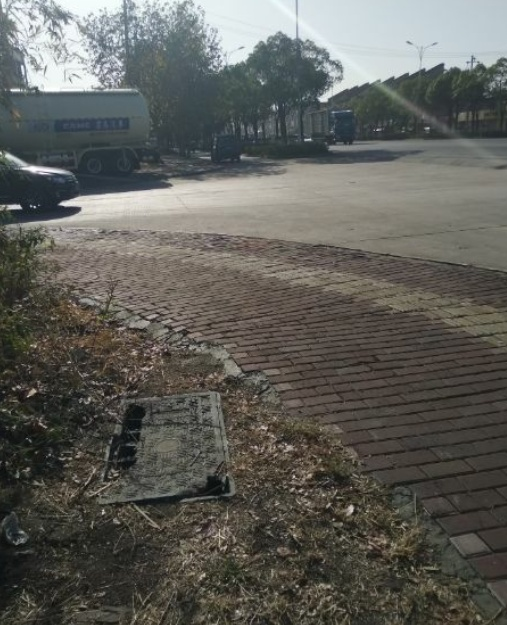broke: (97, 391, 237, 504)
